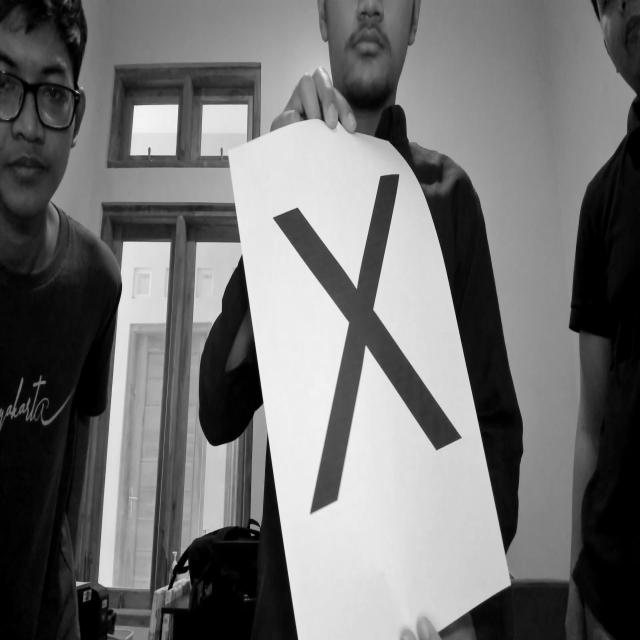x: (263, 145, 493, 542)
